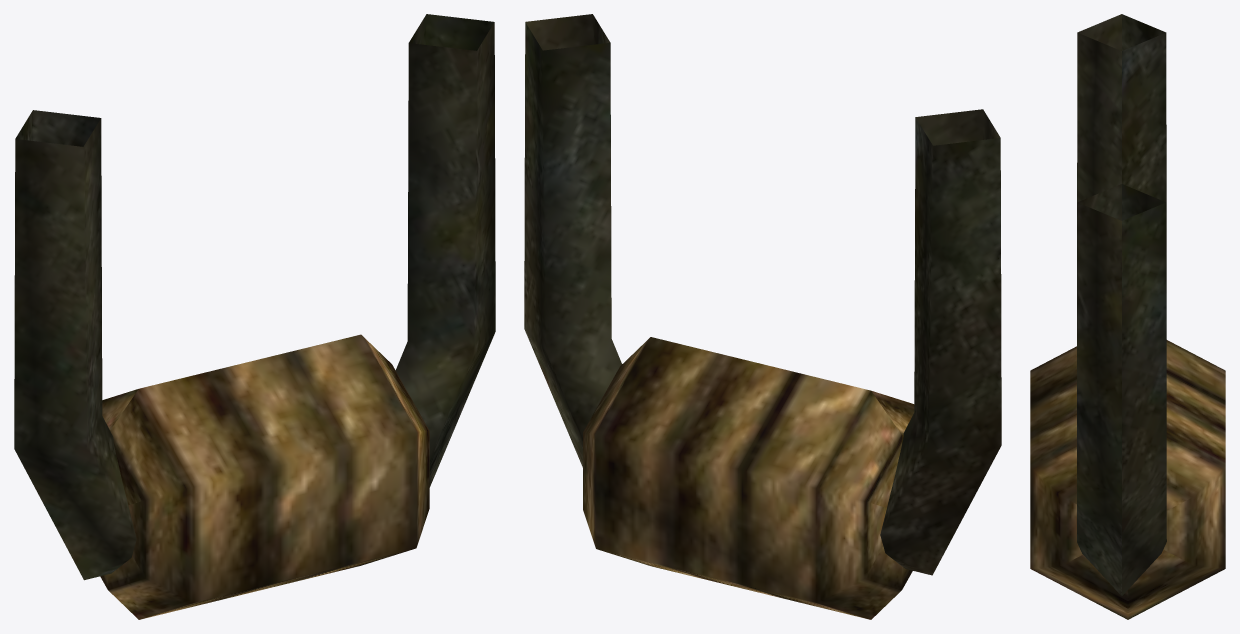
The model's file is KM_DEADRAZOR_CATCH.glb.
3 views of the same model, side by side, from view 1: azimuth 30°, elevation 25°; view 2: azimuth 150°, elevation 25°; view 3: azimuth 270°, elevation 25° (orthographic). The views are drawn at different scales.
Parts seen in each view (by area): view 1: Mesh; view 2: Mesh; view 3: Mesh.
Boxes of the visible parts, <box> form: Mesh: <box>14,14,495,619</box>; Mesh: <box>524,14,1001,619</box>; Mesh: <box>1030,14,1225,619</box>.
Bounding box in the file's own units: 0.233 × 0.238 × 0.0926.
2 materials, 2 textured.
